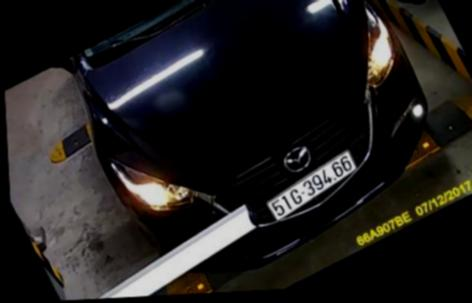License_Plate: (258, 153, 364, 226)
